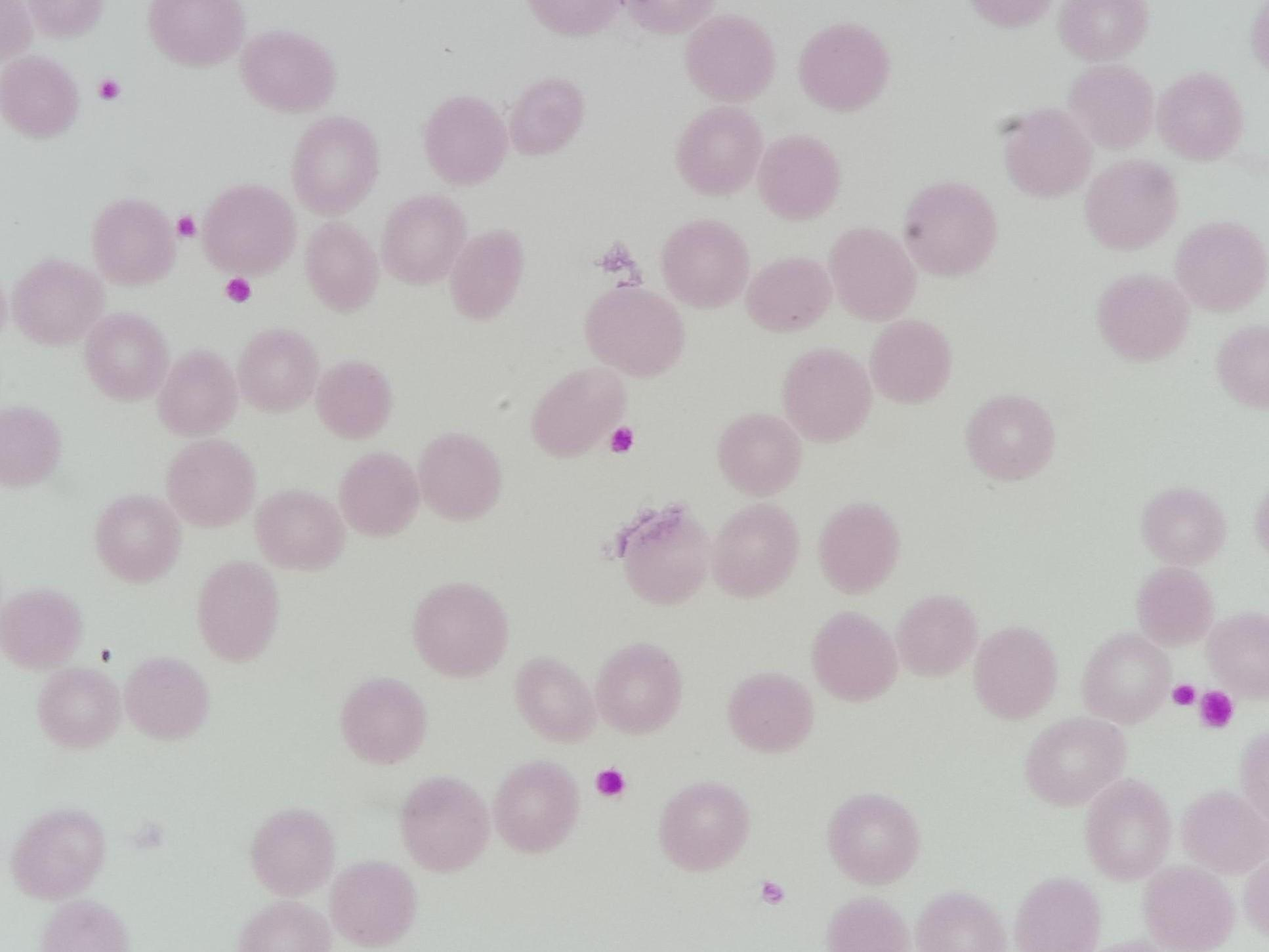Uninfected: (200, 182, 298, 279), (527, 363, 624, 460), (615, 508, 711, 604), (413, 583, 509, 677), (400, 777, 492, 873), (584, 285, 682, 375), (294, 120, 382, 219), (1084, 779, 1172, 878), (904, 184, 998, 276), (12, 809, 106, 901), (1026, 716, 1123, 804), (827, 795, 920, 886), (11, 259, 106, 346), (492, 762, 579, 856), (659, 783, 749, 873), (420, 95, 509, 186), (782, 349, 870, 441), (197, 562, 280, 659), (1175, 220, 1265, 309), (166, 436, 257, 524), (1083, 159, 1174, 247), (812, 612, 900, 703), (711, 506, 798, 598), (964, 396, 1055, 483), (1098, 273, 1189, 360), (595, 645, 682, 736), (828, 227, 915, 317), (1082, 636, 1169, 726), (797, 24, 888, 110), (250, 809, 337, 898), (1142, 864, 1233, 949), (677, 109, 765, 196), (661, 220, 749, 307), (1067, 64, 1155, 151), (1154, 72, 1243, 158), (255, 488, 346, 572), (96, 495, 183, 582), (341, 678, 428, 765), (85, 312, 171, 400), (239, 35, 336, 113), (686, 16, 775, 101), (1003, 111, 1093, 195), (818, 503, 902, 593), (972, 628, 1056, 718), (381, 196, 467, 283), (36, 665, 123, 751), (417, 432, 502, 520), (93, 199, 179, 285), (123, 656, 209, 742), (1178, 789, 1262, 877), (237, 329, 322, 415), (156, 349, 241, 435), (339, 453, 423, 539), (329, 862, 416, 945), (726, 673, 814, 755), (755, 136, 840, 220), (894, 594, 978, 679), (717, 414, 802, 497), (514, 658, 597, 743), (1141, 487, 1226, 569), (1, 588, 83, 673), (449, 231, 528, 319), (871, 319, 953, 402), (744, 255, 831, 333), (1, 54, 81, 138), (305, 222, 379, 310), (1014, 880, 1102, 952), (314, 359, 393, 438), (1137, 566, 1216, 644), (150, 1, 243, 64), (508, 79, 585, 155), (1205, 610, 1269, 697), (914, 892, 1003, 952), (1059, 1, 1146, 59), (0, 405, 62, 486), (827, 897, 910, 952)
